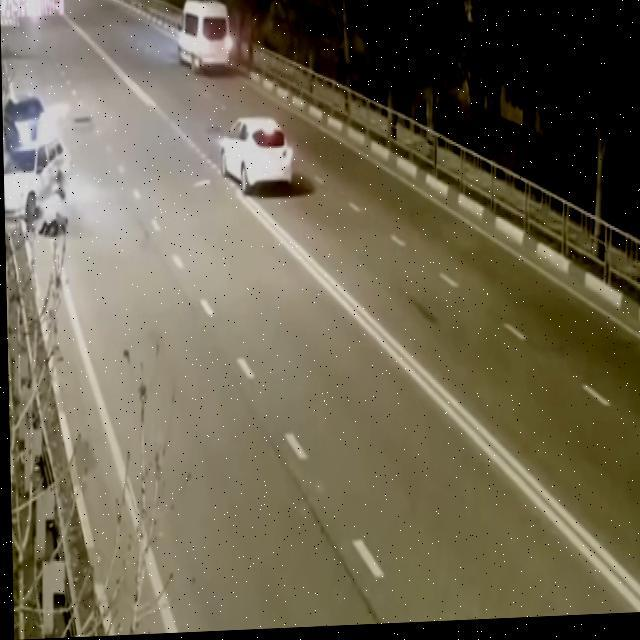normal: (208, 89, 352, 216), (173, 0, 243, 77)
